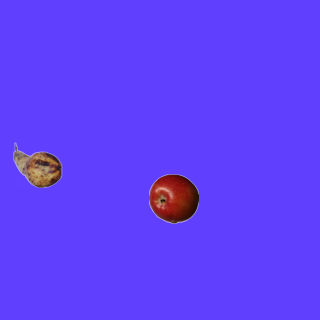Apple Braeburn: (148, 173, 198, 223)
Pear Abate: (12, 140, 62, 190)
